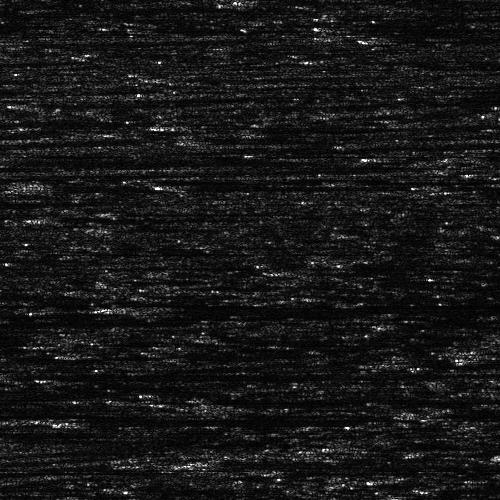rock: (0, 170, 108, 199), (48, 301, 163, 312), (368, 180, 483, 189), (0, 415, 104, 424), (161, 178, 214, 191), (0, 378, 38, 395), (0, 369, 55, 378), (0, 155, 39, 164)
shadow: (106, 301, 500, 312), (9, 369, 415, 378), (0, 378, 202, 395), (0, 155, 300, 164), (30, 170, 110, 199), (52, 415, 301, 424), (188, 178, 354, 191), (426, 180, 500, 189)
